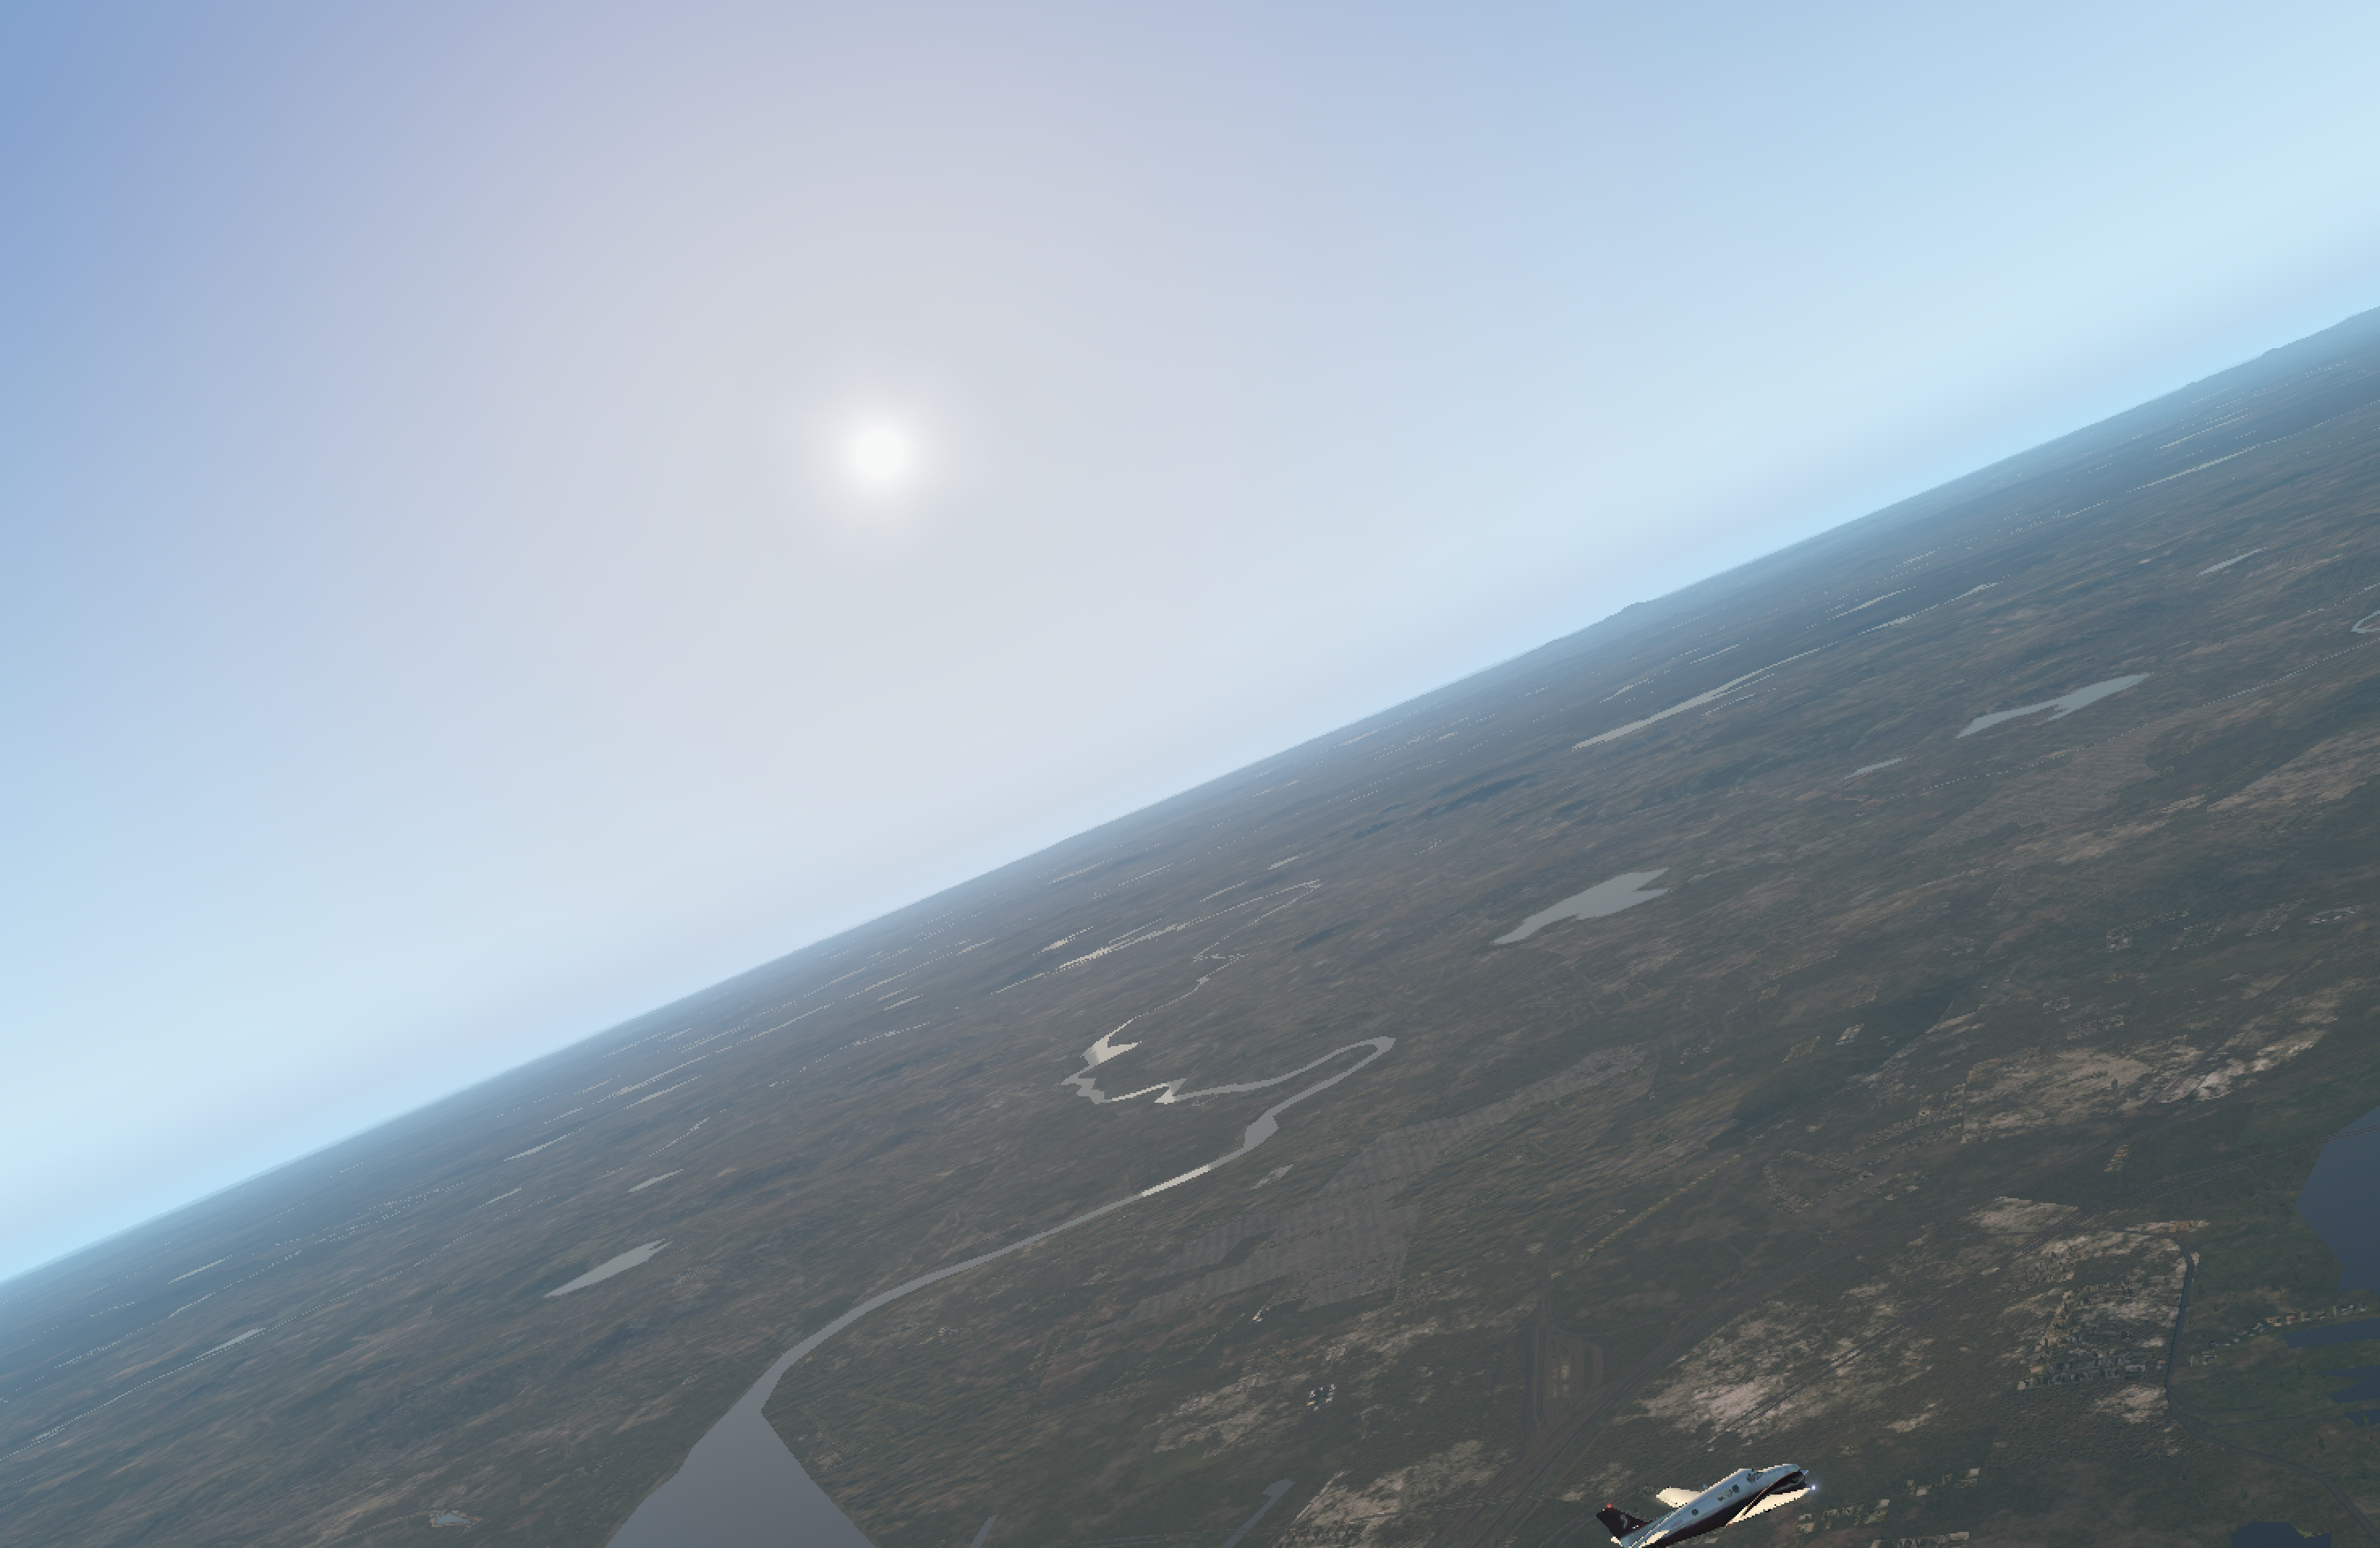aircraft: (1601, 1453, 1894, 1548)
